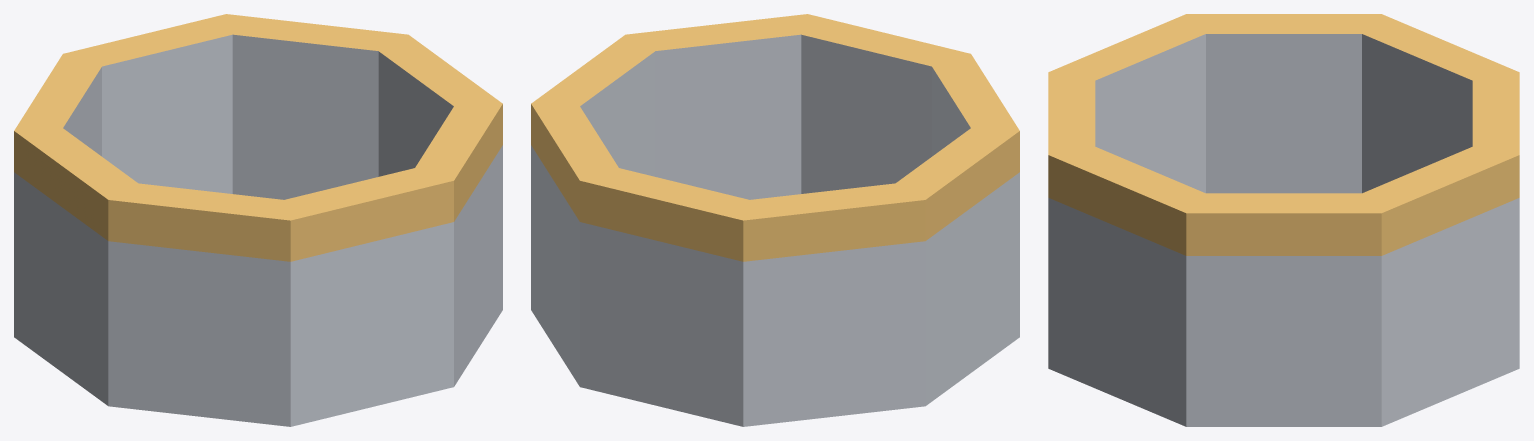
The model's file is rocket_fuelA.glb.
3 views of the same model, side by side, from view 1: azimuth 30°, elevation 25°; view 2: azimuth 150°, elevation 25°; view 3: azimuth 270°, elevation 25° (orthographic). The views are drawn at different scales.
Visible parts, largest first — view 1: rocket_fuelA; view 2: rocket_fuelA; view 3: rocket_fuelA.
Boxes of the visible parts, x1=… form: rocket_fuelA: x1=14, y1=14, x2=502, y2=426; rocket_fuelA: x1=531, y1=14, x2=1019, y2=426; rocket_fuelA: x1=1048, y1=14, x2=1519, y2=426.
Bounding box in the file's own units: 1 × 0.5 × 1.
1 material, 1 textured.
